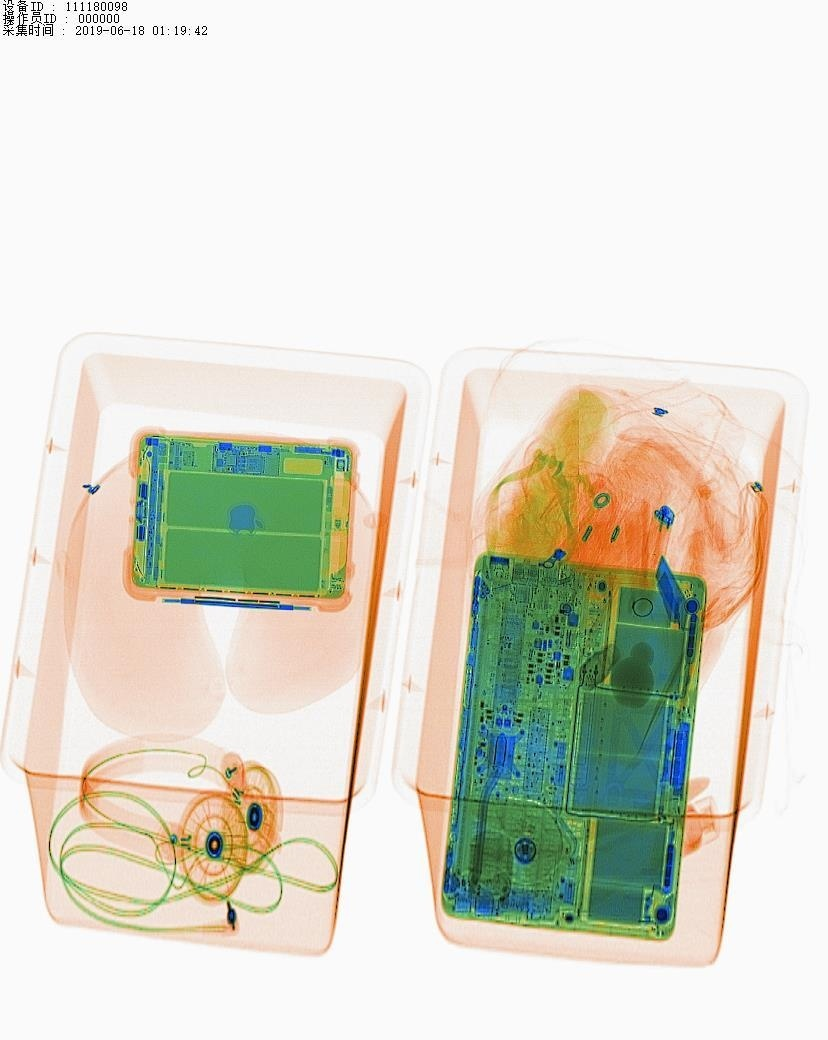NonmetallicFire: (623, 493, 694, 581)
